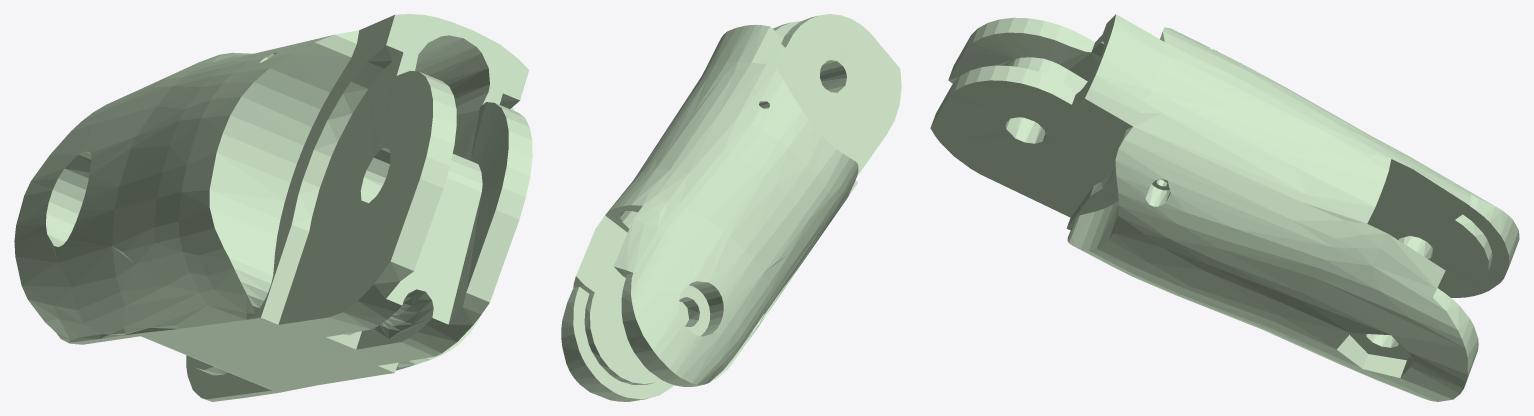
File: i02_leftHand_indexPhal_visual.obj.light.glb
3 views of the same model, side by side, from view 1: azimuth 30°, elevation 25°; view 2: azimuth 150°, elevation 25°; view 3: azimuth 270°, elevation 25° (orthographic). The views are drawn at different scales.
Bounding box in the file's own units: 0.2047 × 0.3471 × 0.4988.
